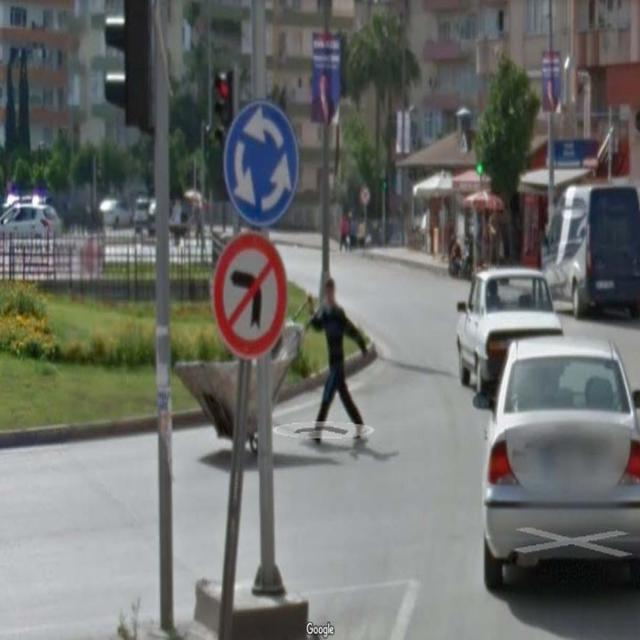kirmizi: (215, 70, 236, 150)
soladonulmez: (212, 234, 287, 356)
